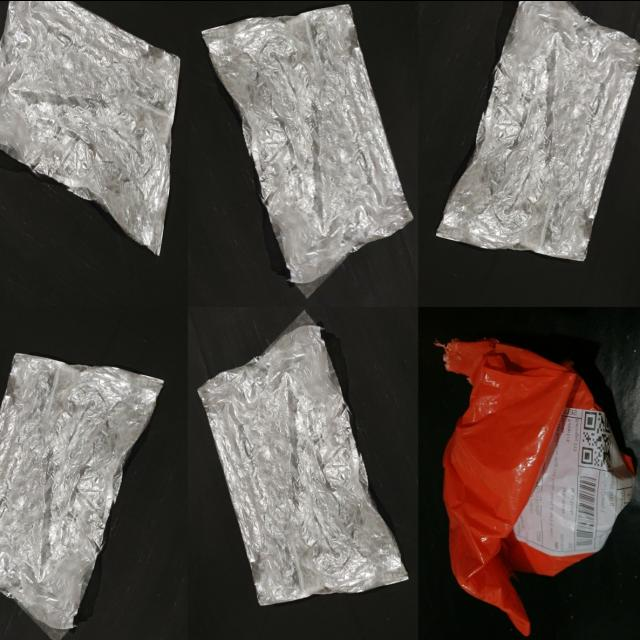plastik: (198, 324, 407, 605), (202, 4, 412, 282), (443, 339, 634, 634), (437, 0, 640, 259), (0, 352, 163, 636), (0, 0, 180, 254)
